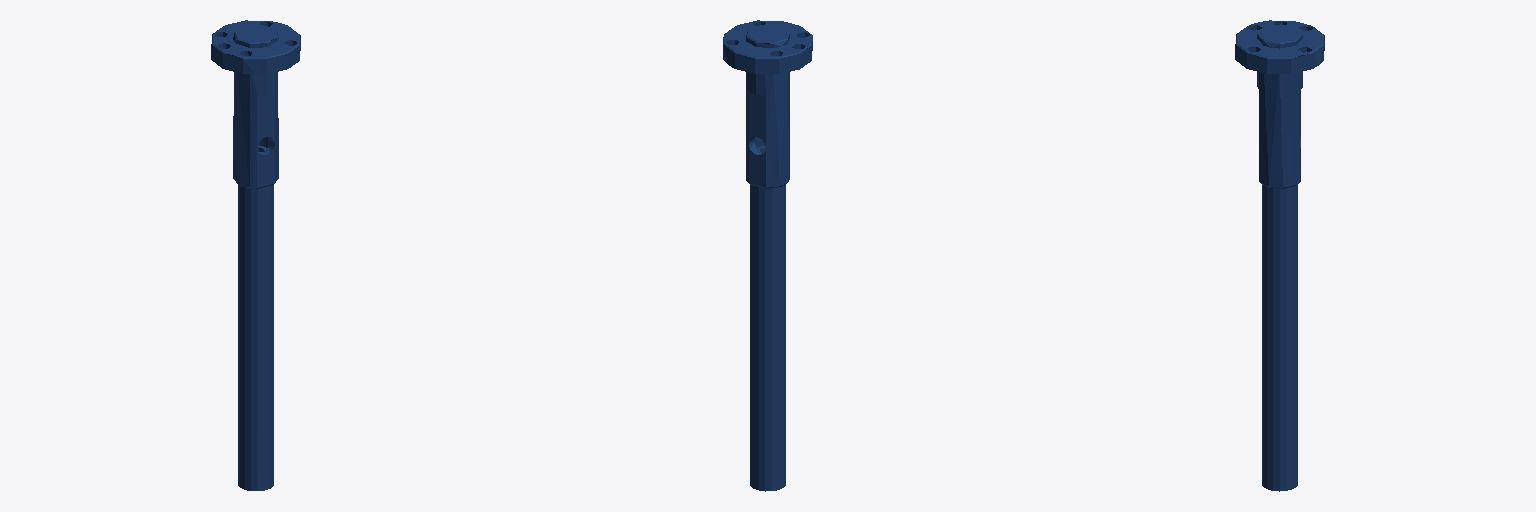
The robot description file, URDF, robot "abb_irb1200_7_70":
<robot name="abb_irb1200_7_70">

  <material name="white">
    <color rgba="1 1 1 1"/>
  </material>

  <material name="gray">
    <color rgba="0.7 0.7 0.7 1"/>
  </material>

  <material name="blue">
    <color rgba="0.180 0.306 0.494 1"/>
  </material>

  <material name="black">
    <color rgba="0 0 0 1"/>
  </material>

  <material name="red">
    <color rgba="1 0 0 1"/>
  </material>

  <link name="base_link">
    <inertial>
      <origin xyz="0 0 0" rpy="0 0 0"/>
      <mass value="0"/>
      <inertia ixx="0.001" ixy="0" ixz="0" iyy="0.001" iyz="0" izz="0.001"/>
    </inertial>
  </link>

  <link name="base_link_x">
    <inertial>
      <origin xyz="0 0 0" rpy="0 0 0"/>
      <mass value="0"/>
      <inertia ixx="0.001" ixy="0" ixz="0" iyy="0.001" iyz="0" izz="0.001"/>
    </inertial>
  </link>

  <link name="base_link_y">
    <inertial>
      <origin xyz="0 0 0" rpy="0 0 0"/>
      <mass value="0"/>
      <inertia ixx="0.001" ixy="0" ixz="0" iyy="0.001" iyz="0" izz="0.001"/>
    </inertial>
  </link>

  <link name="base_link_z">
    <inertial>
      <origin xyz="0 0 0" rpy="0 0 0"/>
      <mass value="0"/>
      <inertia ixx="0.001" ixy="0" ixz="0" iyy="0.001" iyz="0" izz="0.001"/>
    </inertial>
  </link>

  <link name="abb_ee">
     <inertial>
      <origin xyz="0 0 0" rpy="0 0 0"/>
      <mass value="0.1"/>
      <inertia ixx="0.01" ixy="0" ixz="0" iyy="0.01" iyz="0" izz="0.01"/>
    </inertial>

    <collision name="collision">
      <origin xyz="0 0 0" rpy="0 0 0"/>
      <contact_coefficients mu = "0.5" kp = "1e8" kd = "1e8"/>
      <lateral_friction value="0.18"/>
      <geometry>
        <mesh filename="package://meshes/rod0.stl" />
      </geometry>
    </collision>

    <visual name="visual">
      <origin xyz="0 0 0" rpy="0 0 0"/>
      <geometry>
        <mesh filename="package://meshes/rod0.stl" />
      </geometry>
      <material name ="blue"/>
    </visual>
  </link>

  <joint name="base_joint" type="fixed">
    <parent link="base_link"/>
    <child link="base_link_x"/>
    <origin rpy="0 0 0" xyz="0 0 0"/>
  </joint>

  <joint name="ee_x" type="prismatic">
    <parent link="base_link_x"/>
    <child link="base_link_y"/>
    <axis xyz="1 0 0"/>
    <origin rpy="0 0 0" xyz="0 0 0"/>
    <limit effort="1000.0" lower="-1.0" upper="1.0" velocity="0.1"/>
  </joint>

  <joint name="ee_y" type="prismatic">
    <parent link="base_link_y"/>
    <child link="base_link_z"/>
    <axis xyz="0 1 0"/>
    <origin rpy="0 0 0" xyz="0 0 0"/>
    <limit effort="1000.0" lower="-1.0" upper="1.0" velocity="0.1"/>
  </joint>

  <joint name="ee_z" type="prismatic">
    <parent link="base_link_z"/>
    <child link="abb_ee"/>
    <axis xyz="0 0 1"/>
    <origin rpy="0 0 0" xyz="0 0 0.0"/>
    <limit effort="1000.0" lower="-1.0" upper="1.0" velocity="0.1"/>
  </joint>

</robot>

--- Render facts (derived) ---
Views: 3 orthographic renders of the robot side by side, from view 1: azimuth 30°, elevation 25°; view 2: azimuth 150°, elevation 25°; view 3: azimuth 270°, elevation 25°.
Robot: abb_irb1200_7_70 — 5 links, 4 joints (3 prismatic, 1 fixed); root link base_link; default pose: all joints at 0.
Links seen in each view (by area): view 1: abb_ee; view 2: abb_ee; view 3: abb_ee.
Boxes of the visible links, <box> form: abb_ee: <box>211,20,300,490</box>; abb_ee: <box>723,20,812,491</box>; abb_ee: <box>1235,20,1324,491</box>.
Size in the robot's own frame: 0.0388 by 0.0388 by 0.217 metres.
Meshes: 1 distinct files referenced, 1 mesh visuals loaded (1 binary STL).